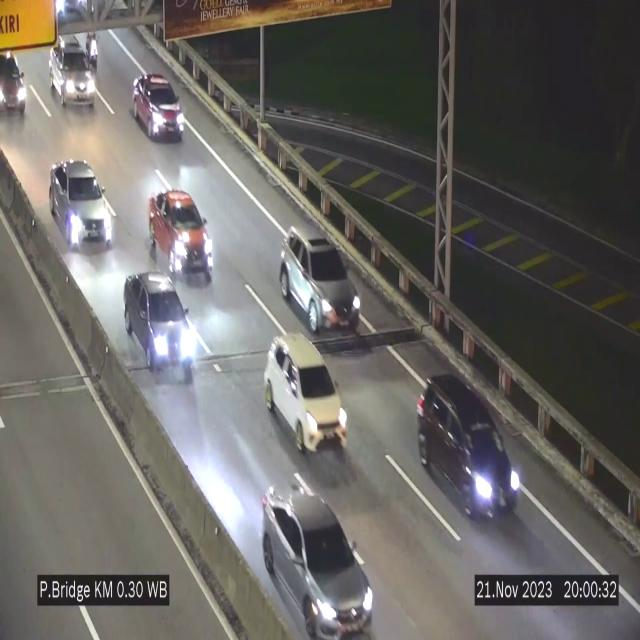Car: (262, 479, 374, 638), (413, 372, 525, 522), (265, 333, 347, 453), (279, 230, 361, 334), (124, 272, 196, 378), (149, 185, 215, 283), (49, 160, 113, 246), (47, 36, 99, 110), (132, 72, 184, 140), (0, 50, 29, 121)
Motorcycle: (85, 21, 101, 70)
